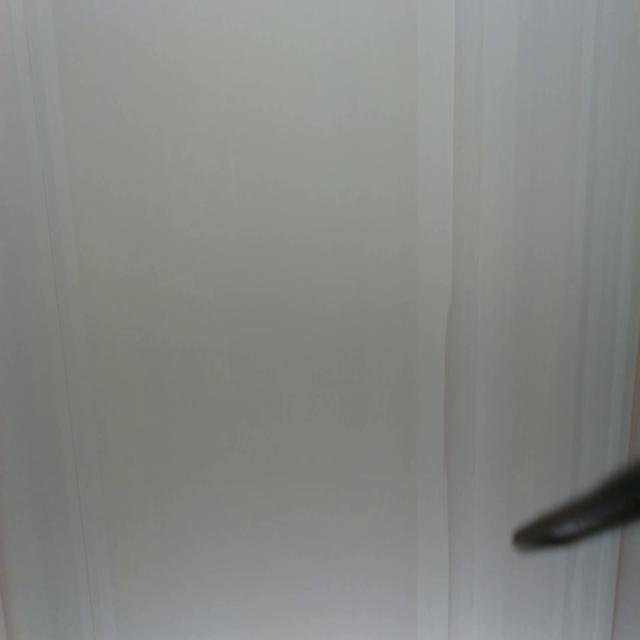crease: (22, 0, 98, 640), (441, 0, 458, 639), (624, 338, 640, 466), (608, 529, 624, 640)
